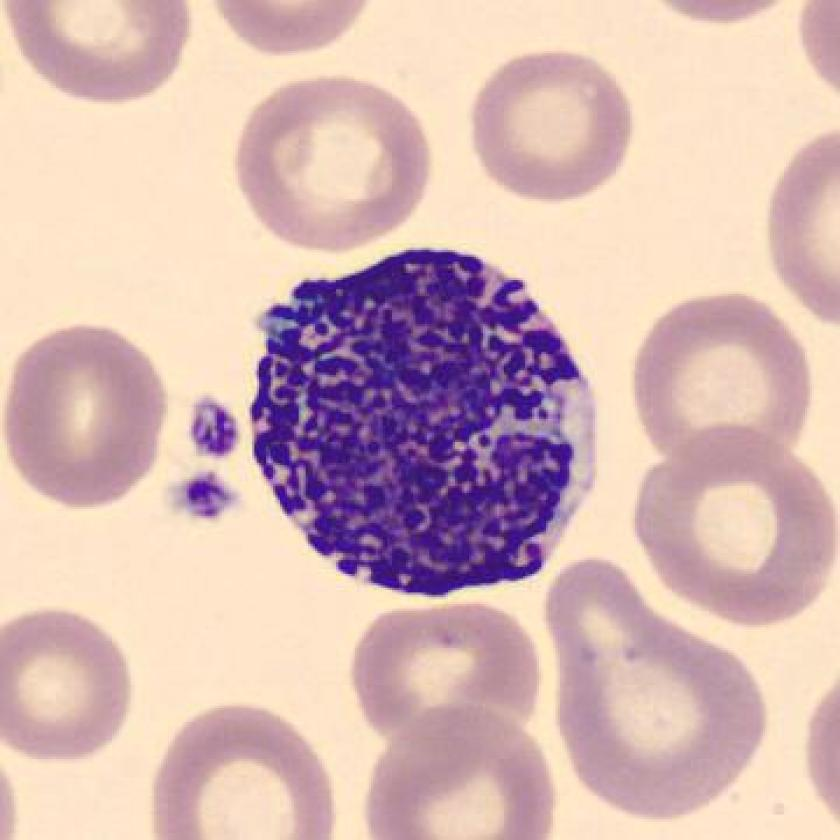basophil: (237, 242, 605, 600)
